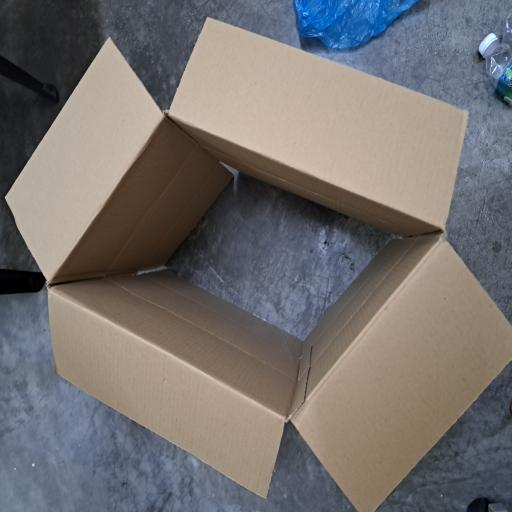cardboard: (0, 6, 372, 512)
plastic bag: (346, 389, 384, 512)
